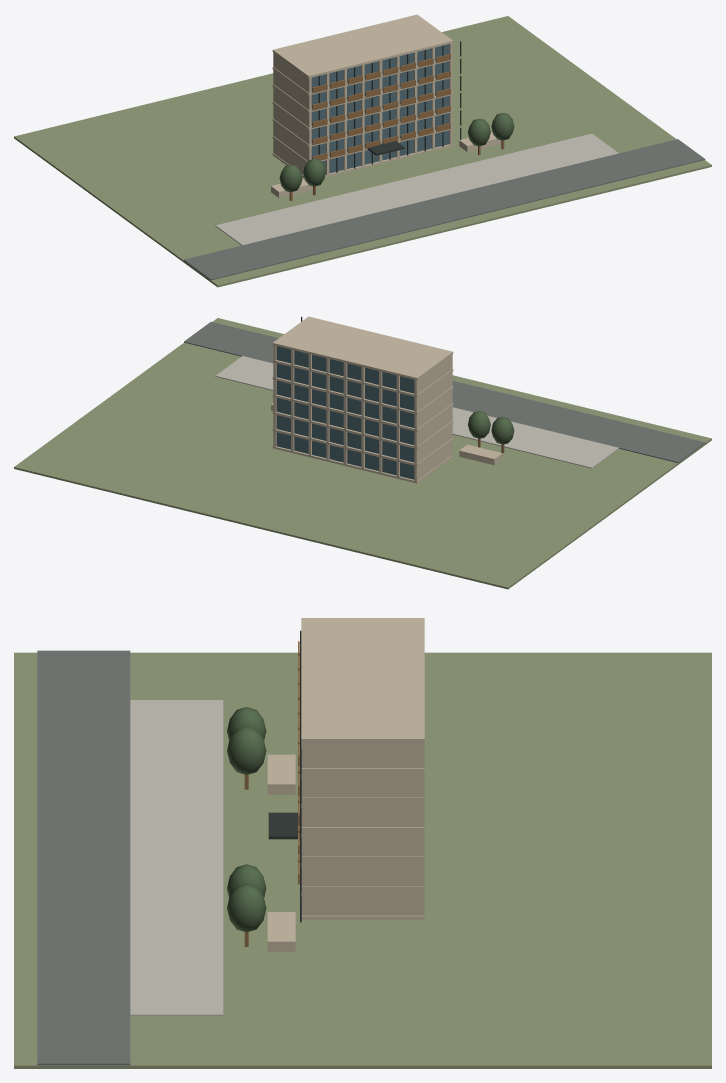
The model's file is exterior.glb.
The picture shows the model from 3 angles, top to bottom: view 1: azimuth 30°, elevation 25°; view 2: azimuth 150°, elevation 25°; view 3: azimuth 270°, elevation 25°; orthographic projection. The views are drawn at different scales.
Size of the model in its own units: 42 by 8.72 by 30.
